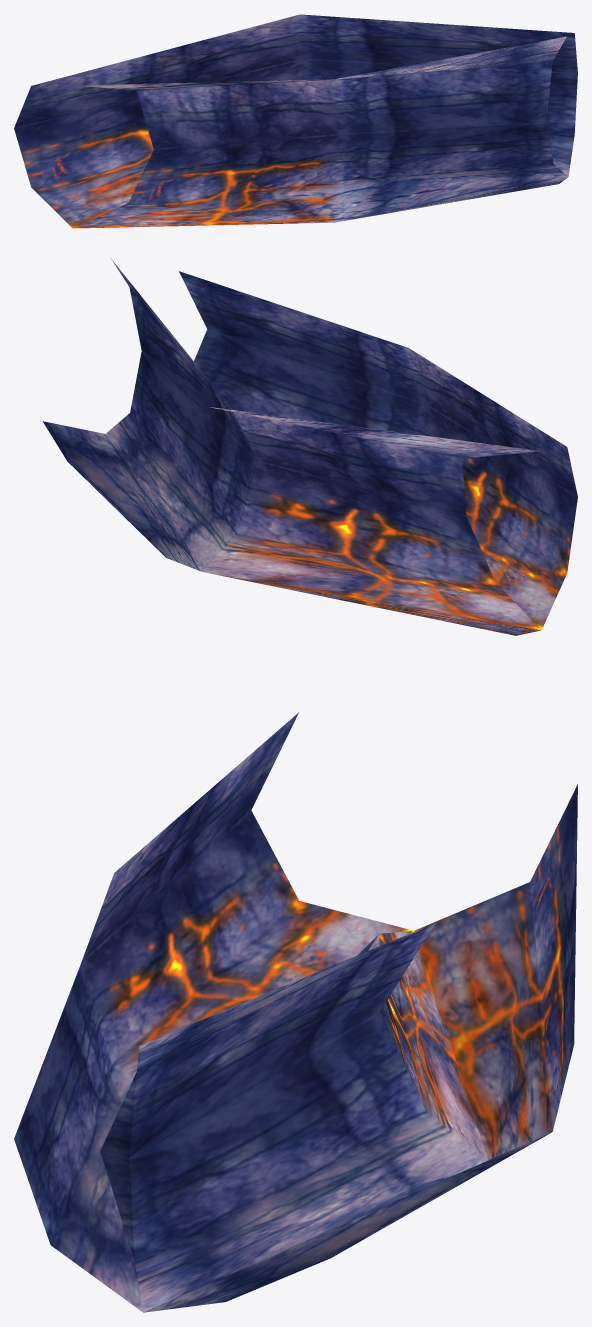
The picture shows the model from 3 angles, top to bottom: view 1: azimuth 30°, elevation 25°; view 2: azimuth 150°, elevation 25°; view 3: azimuth 270°, elevation 25°; orthographic projection. The views are drawn at different scales.
Visible parts, largest first — view 1: 22; view 2: 22; view 3: 22.
Boxes of the visible parts, x1,y1,x2,y2 form: 22: (14,14,577,228); 22: (43,259,577,635); 22: (14,712,577,1312).
Size of the model in its own units: 13125 by 3751 by 7178.
2 materials, 2 textured.
